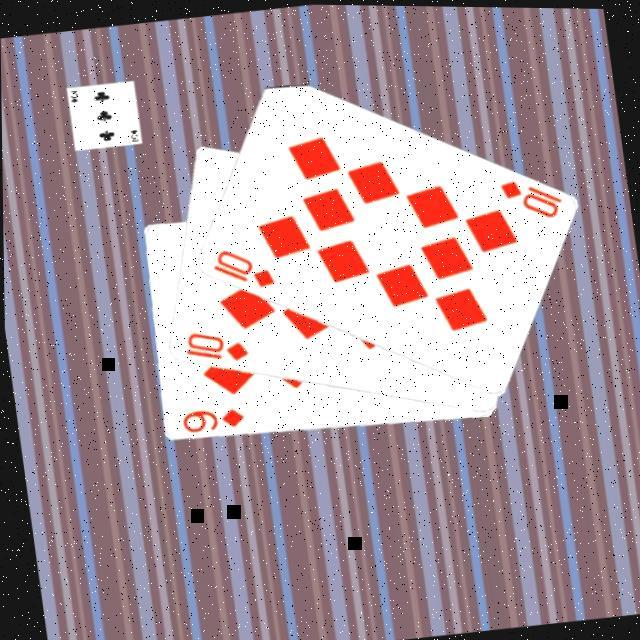10D: (491, 167, 564, 224), (203, 237, 275, 294), (176, 321, 250, 368)
9D: (172, 399, 244, 434)
